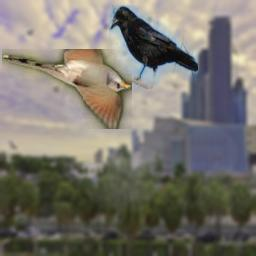Crow: (109, 5, 198, 89)
Cuckoo: (2, 49, 132, 129)
